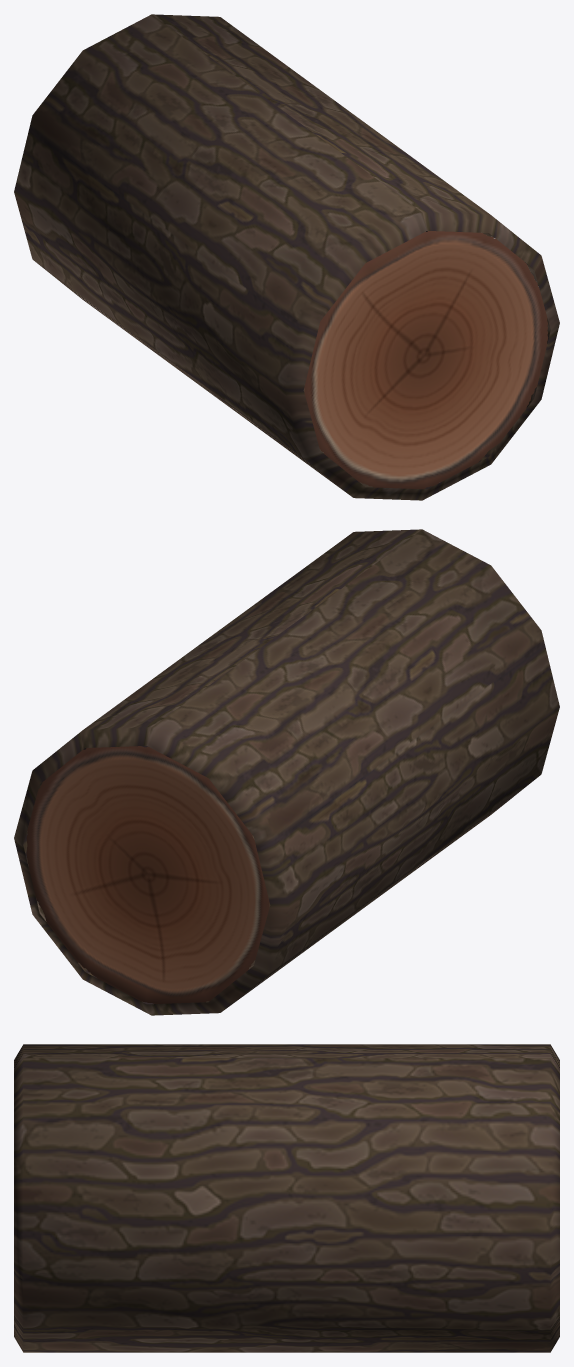
File: log.fbx
3 renders of one model, top to bottom at view 1: azimuth 30°, elevation 25°; view 2: azimuth 150°, elevation 25°; view 3: azimuth 270°, elevation 25°, orthographic. The views are drawn at different scales.
Visible parts, largest first — view 1: log; view 2: log; view 3: log.
Part boxes in pixels (box(x1,y1,x2,y2)): log: box(14, 14, 559, 500); log: box(14, 529, 559, 1015); log: box(14, 1044, 559, 1352).
Bounding box in the file's own units: 26.87 × 26.87 × 47.43.
Materials: 1 (1 with a texture image).
